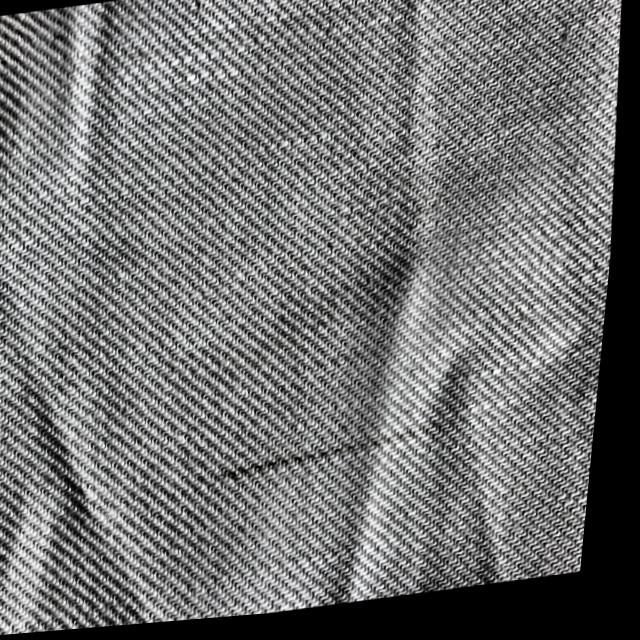Hole: (215, 401, 475, 501)
